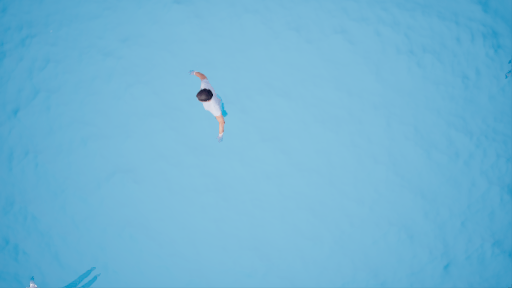person: (187, 72, 233, 141)
